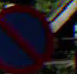No waiting: (0, 3, 55, 72)
